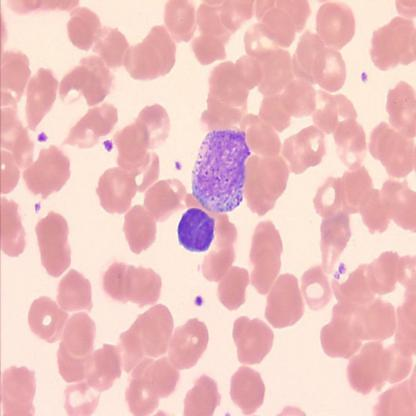Myelocyte: (193, 127, 253, 213), (191, 127, 200, 132)
